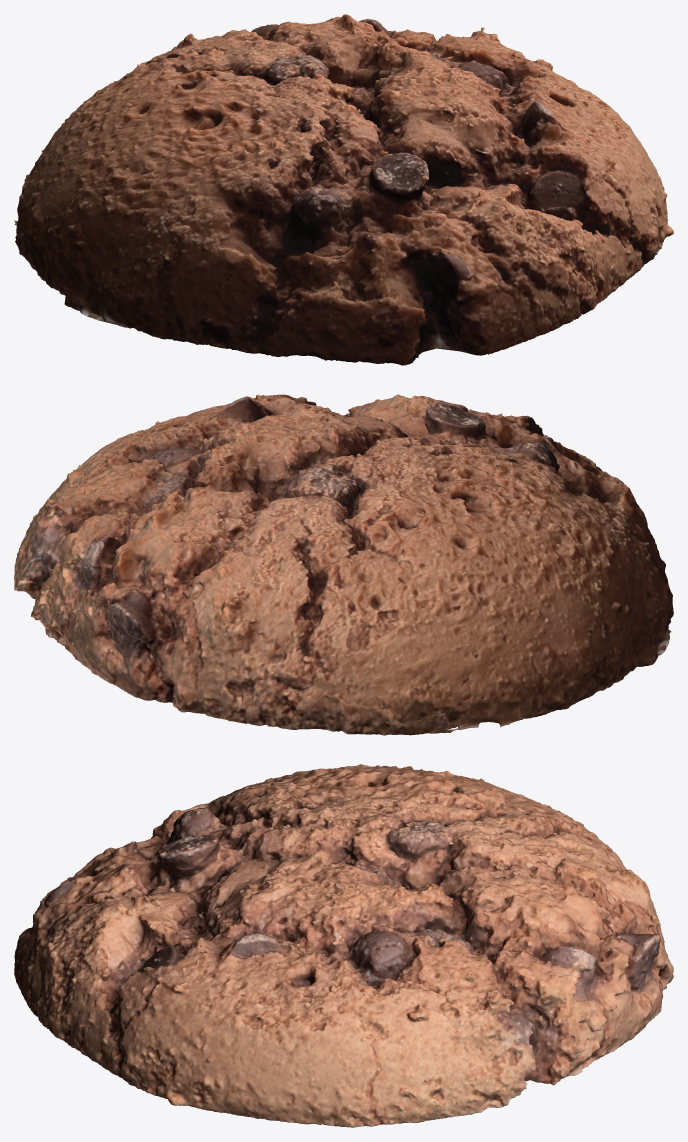
Rendered from bak3.glb.
3 renders of one model, top to bottom at view 1: azimuth 30°, elevation 25°; view 2: azimuth 150°, elevation 25°; view 3: azimuth 270°, elevation 25°, orthographic. The views are drawn at different scales.
Visible parts, largest first — view 1: model; view 2: model; view 3: model.
Boxes of the visible parts, x1,y1,x2,y2 form: model: (14,14,673,365); model: (14,394,673,735); model: (14,764,673,1127).
Bounding box in the file's own units: 0.0659 × 0.0163 × 0.0636.
1 material, 1 textured.
